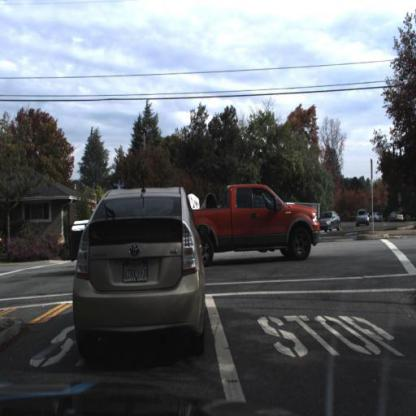car: (74, 178, 209, 361), (194, 183, 325, 269)
